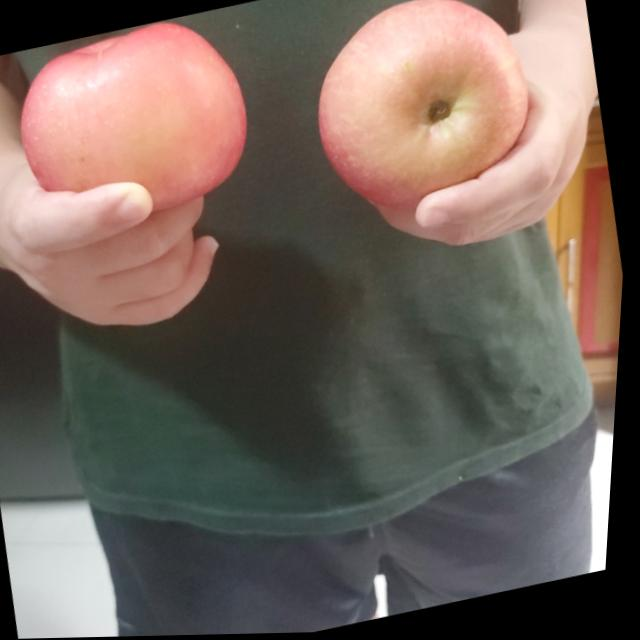apple: (295, 0, 550, 239), (0, 7, 264, 235)
